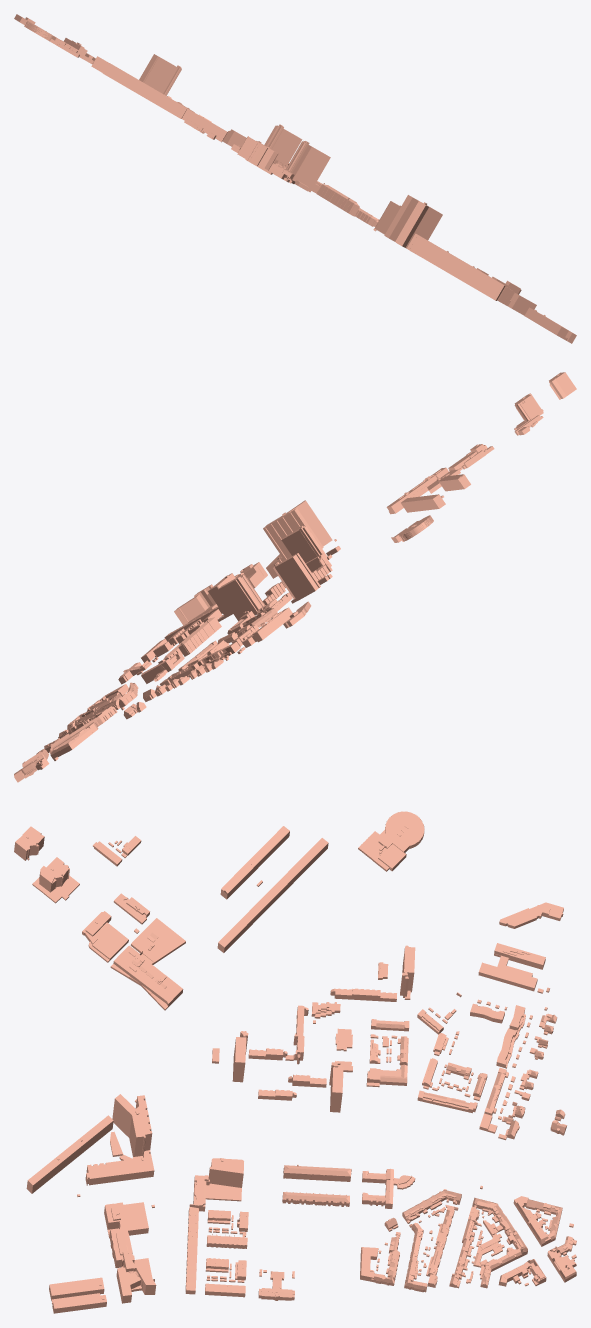
The picture shows the model from 3 angles, top to bottom: view 1: azimuth 30°, elevation 25°; view 2: azimuth 150°, elevation 25°; view 3: azimuth 270°, elevation 25°; orthographic projection. The views are drawn at different scales.
Bounding box in the file's own units: 542 × 401 × 651.
